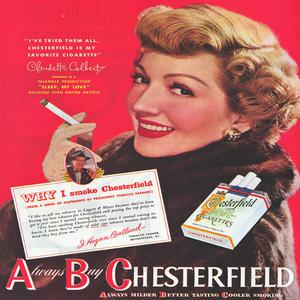cigarette: (40, 98, 87, 132)
